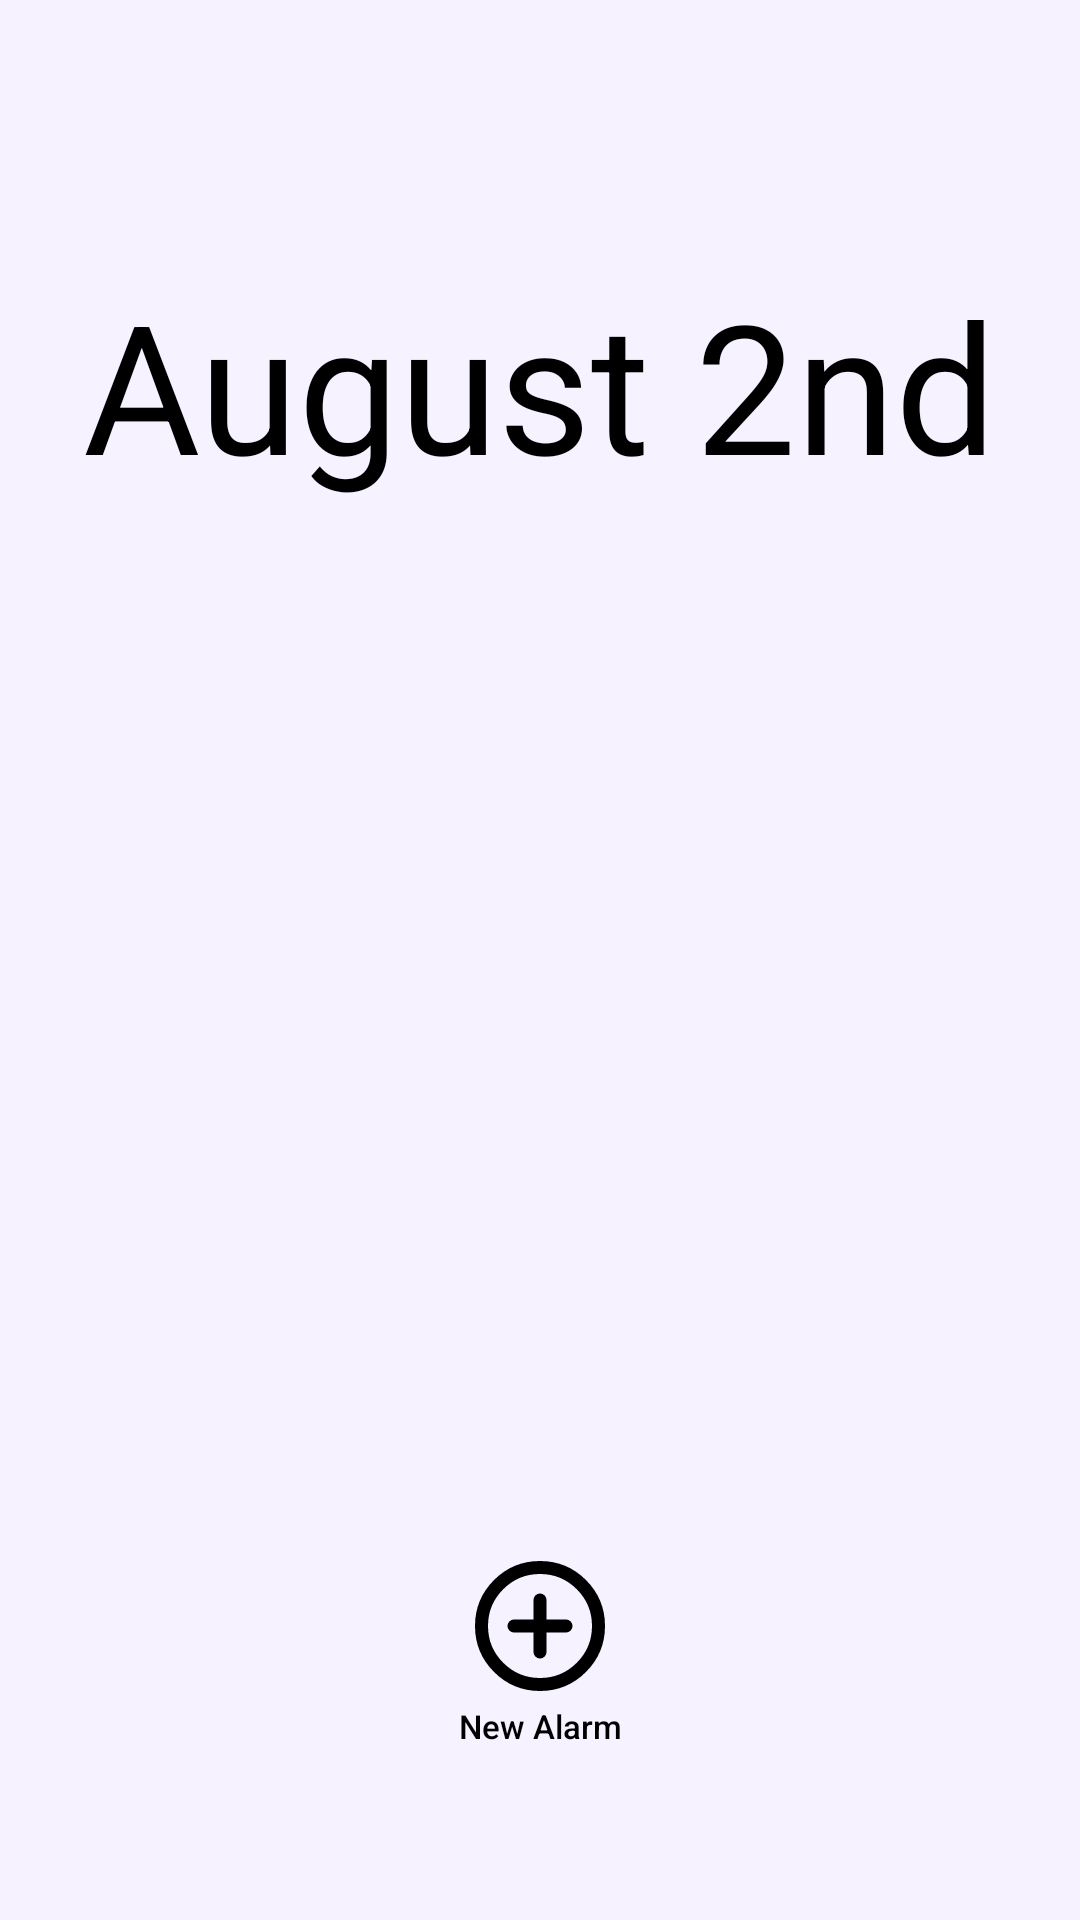

Icons on this 1080px x 1920px Android screen, each with its box as (x1, y1, x2, y2):
add: (475, 1561, 605, 1691)
